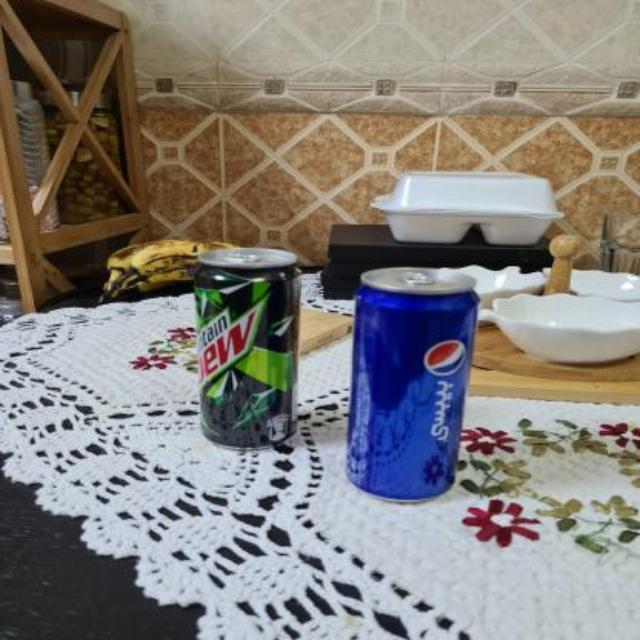metal: (348, 269, 477, 500), (194, 248, 298, 448)
